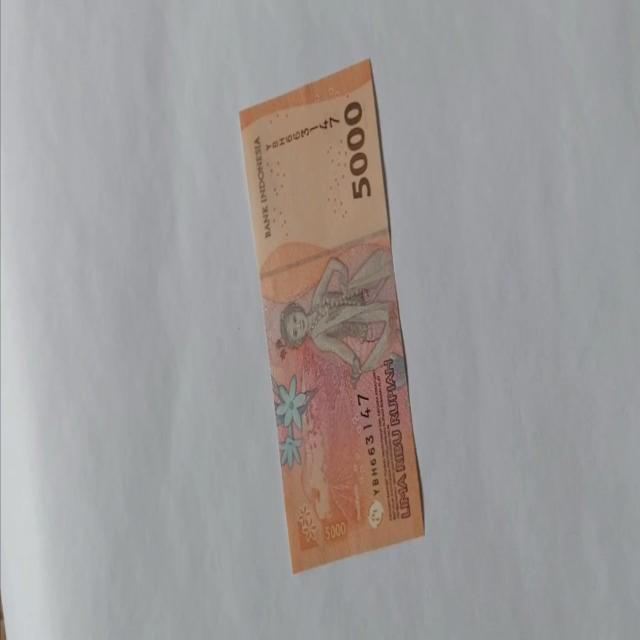lima ribu rupiah: (238, 58, 426, 574)
